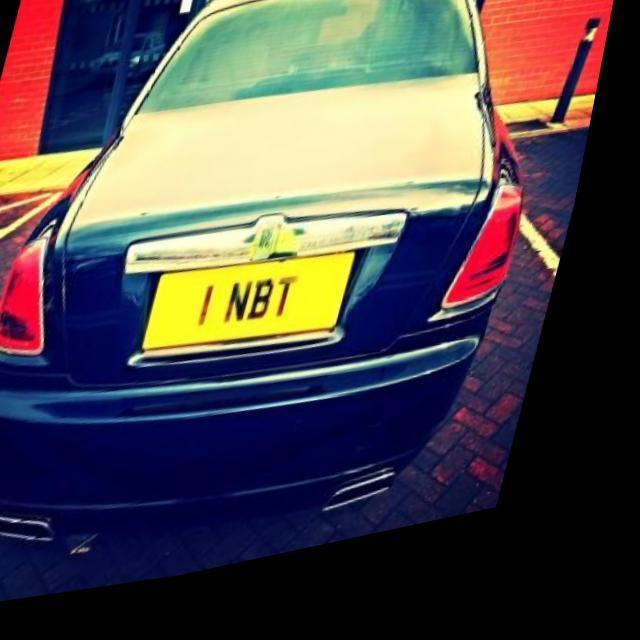license_plate: (152, 248, 374, 381)
